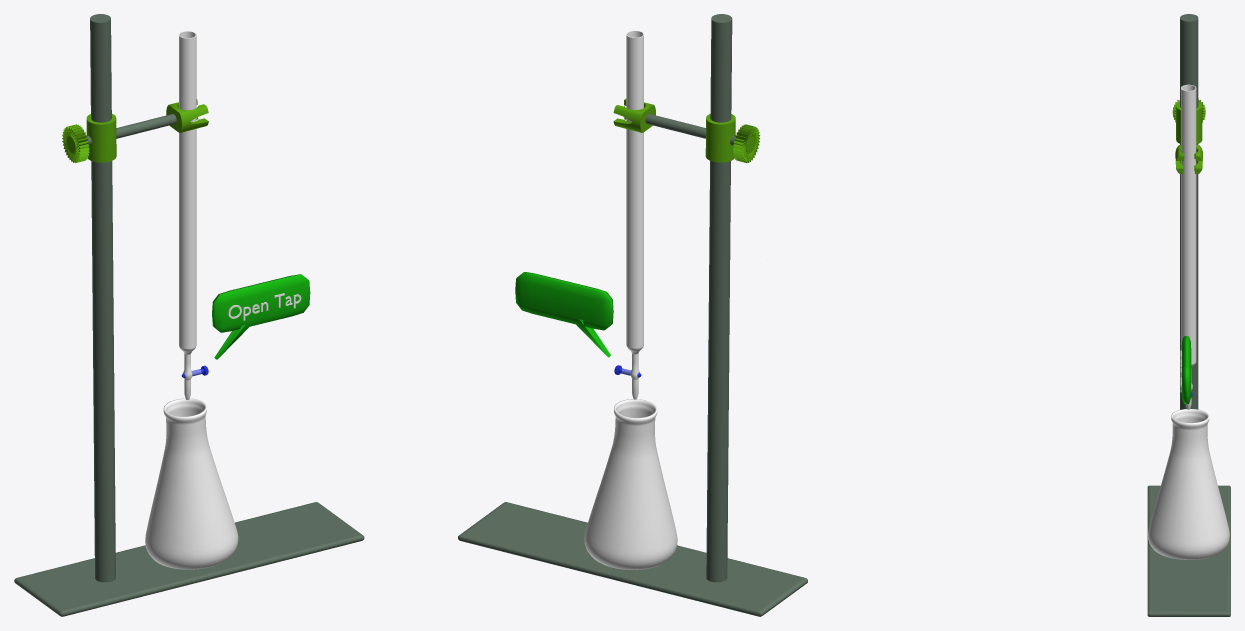
The model's file is chemistry3.glb.
3 renders of one model, left to right at view 1: azimuth 30°, elevation 25°; view 2: azimuth 150°, elevation 25°; view 3: azimuth 270°, elevation 25°, orthographic. The views are drawn at different scales.
Parts seen in each view (by area): view 1: Plane, 4000 mL ER.001, Burette, tapAlert.001, Cylinder.001, Cylinder.003, Cylinder.005; view 2: Plane, 4000 mL ER.001, Burette, tapAlert.001, Cylinder.001, Cylinder.003, Cylinder.005; view 3: Plane, 4000 mL ER.001, Burette, tapAlert.001.
Boxes of the visible parts, <box> form: Plane: <box>14,14,364,616</box>; 4000 mL ER.001: <box>145,398,238,569</box>; Burette: <box>179,31,196,399</box>; tapAlert.001: <box>212,274,310,359</box>; Cylinder.001: <box>86,114,116,162</box>; Cylinder.003: <box>62,124,89,163</box>; Cylinder.005: <box>166,99,208,132</box>; Plane: <box>458,14,807,616</box>; 4000 mL ER.001: <box>584,399,677,569</box>; Burette: <box>626,30,643,399</box>; tapAlert.001: <box>515,272,613,357</box>; Cylinder.001: <box>705,113,735,162</box>; Cylinder.003: <box>732,124,760,162</box>; Cylinder.005: <box>613,98,655,132</box>; Plane: <box>1147,14,1230,616</box>; 4000 mL ER.001: <box>1148,409,1229,559</box>; Burette: <box>1181,84,1196,409</box>; tapAlert.001: <box>1180,336,1191,404</box>.
Size of what is drawn, in the model's own units: 2.01 by 3.57 by 2.56.
